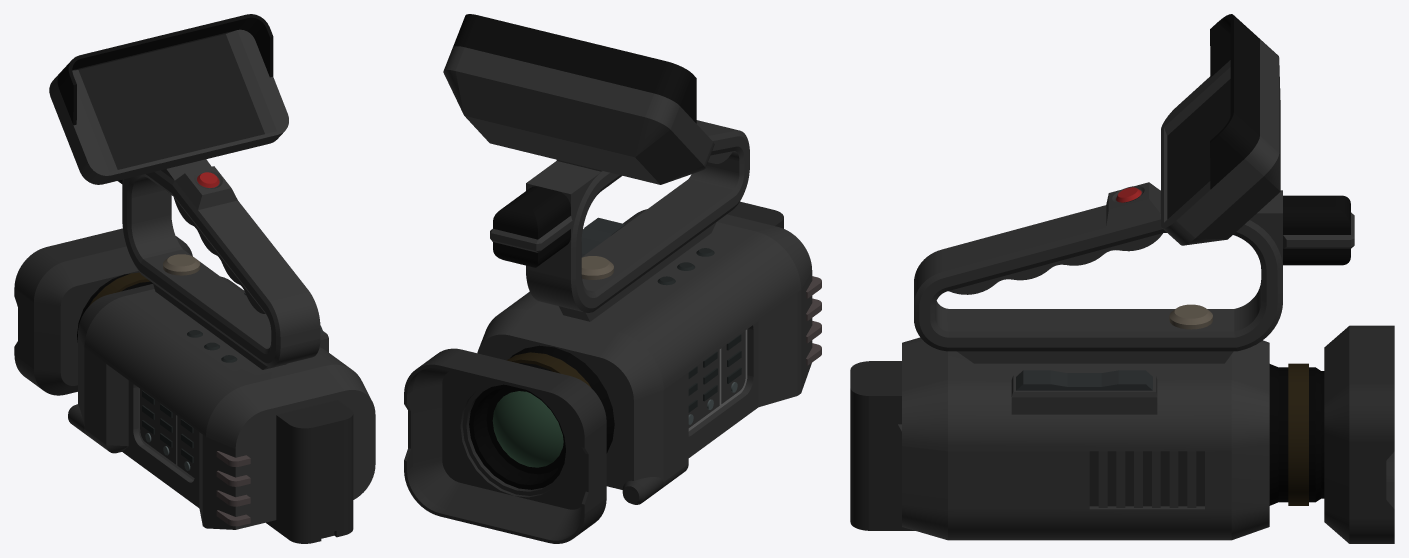
3 views of the same model, side by side, from view 1: azimuth 30°, elevation 25°; view 2: azimuth 150°, elevation 25°; view 3: azimuth 270°, elevation 25° (orthographic). The views are drawn at different scales.
Parts seen in each view (by area): view 1: vx1000; view 2: vx1000; view 3: vx1000.
Part boxes in pixels (<box>): vx1000: <box>14,14,375,543</box>; vx1000: <box>404,14,821,543</box>; vx1000: <box>850,14,1394,543</box>.
Size of the model in its own units: 0.1978 by 0.3635 by 0.4.
